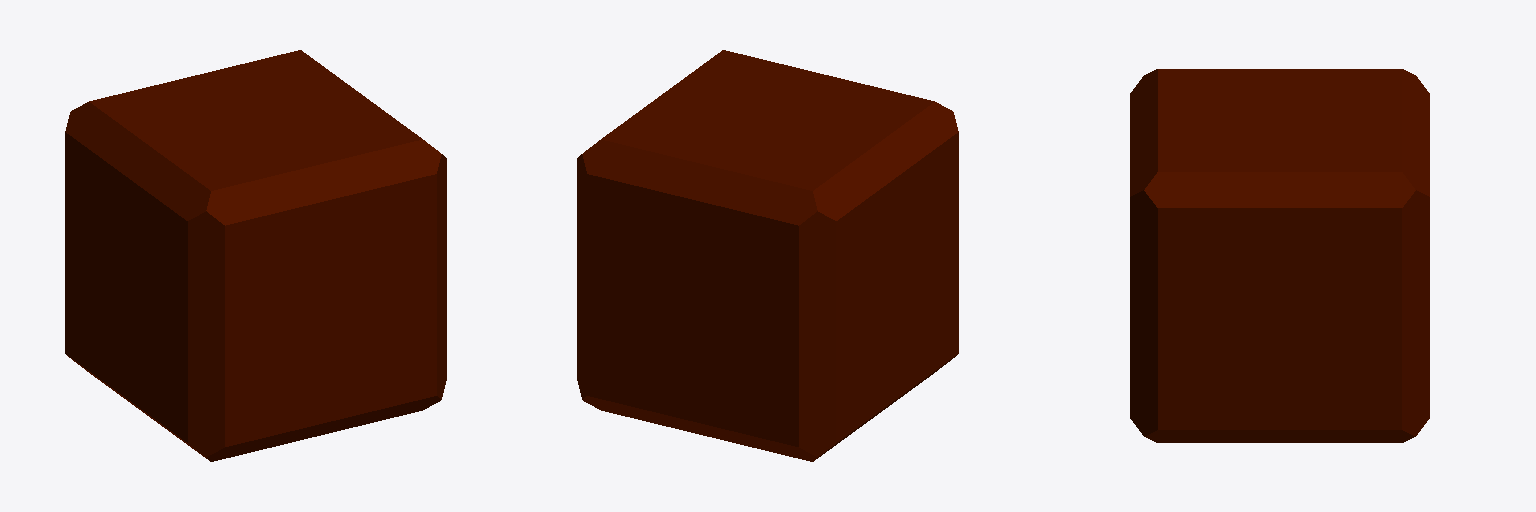
Rendered from SinglePiece-4.obj.
3 renders of one model, left to right at view 1: azimuth 30°, elevation 25°; view 2: azimuth 150°, elevation 25°; view 3: azimuth 270°, elevation 25°, orthographic.
Parts seen in each view (by area): view 1: Cube; view 2: Cube; view 3: Cube.
Part boxes in pixels (x1,y1,x2,y2): Cube: (65,50,446,461); Cube: (577,50,958,461); Cube: (1130,69,1429,442).
Bounding box in the file's own units: 1 × 1 × 1.